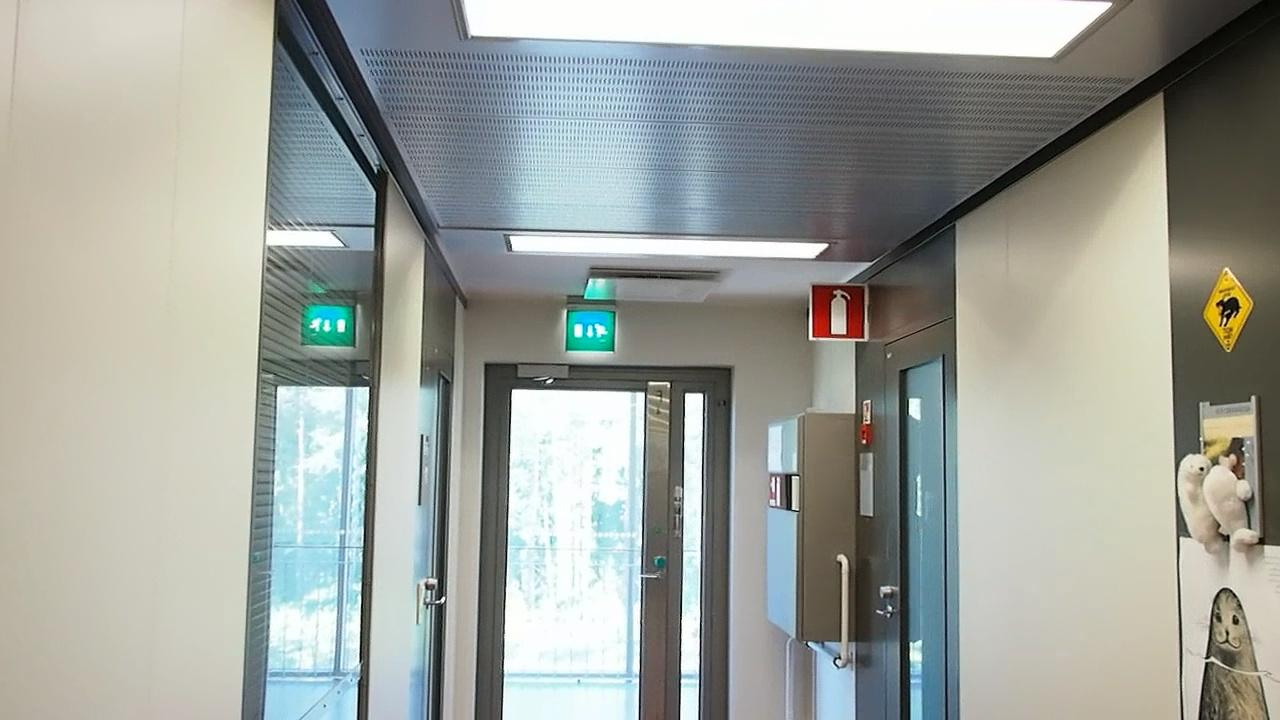exit: (295, 301, 353, 350)
fireextinguisher: (815, 283, 872, 342)
